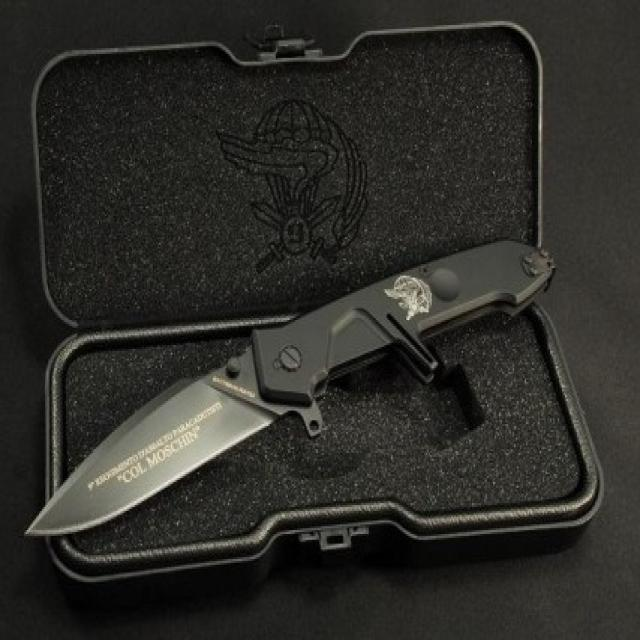knife: (18, 227, 568, 552)
